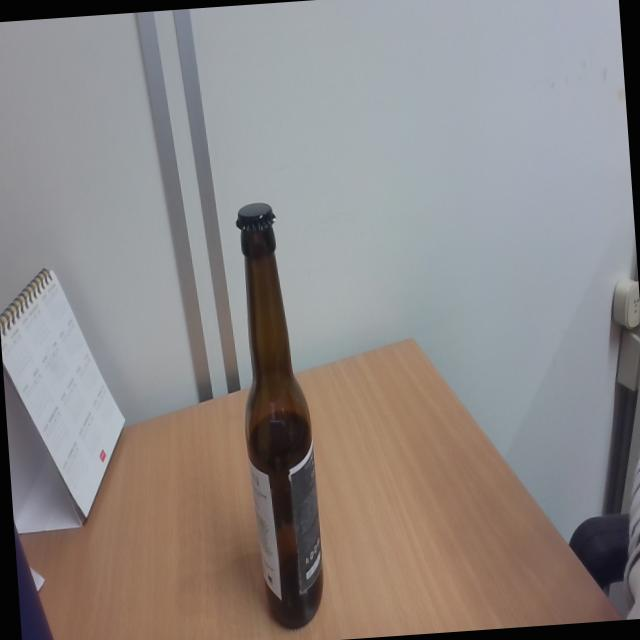Bottle: (228, 199, 326, 629)
Cap: (233, 201, 278, 239)
Label: (248, 453, 324, 598)
